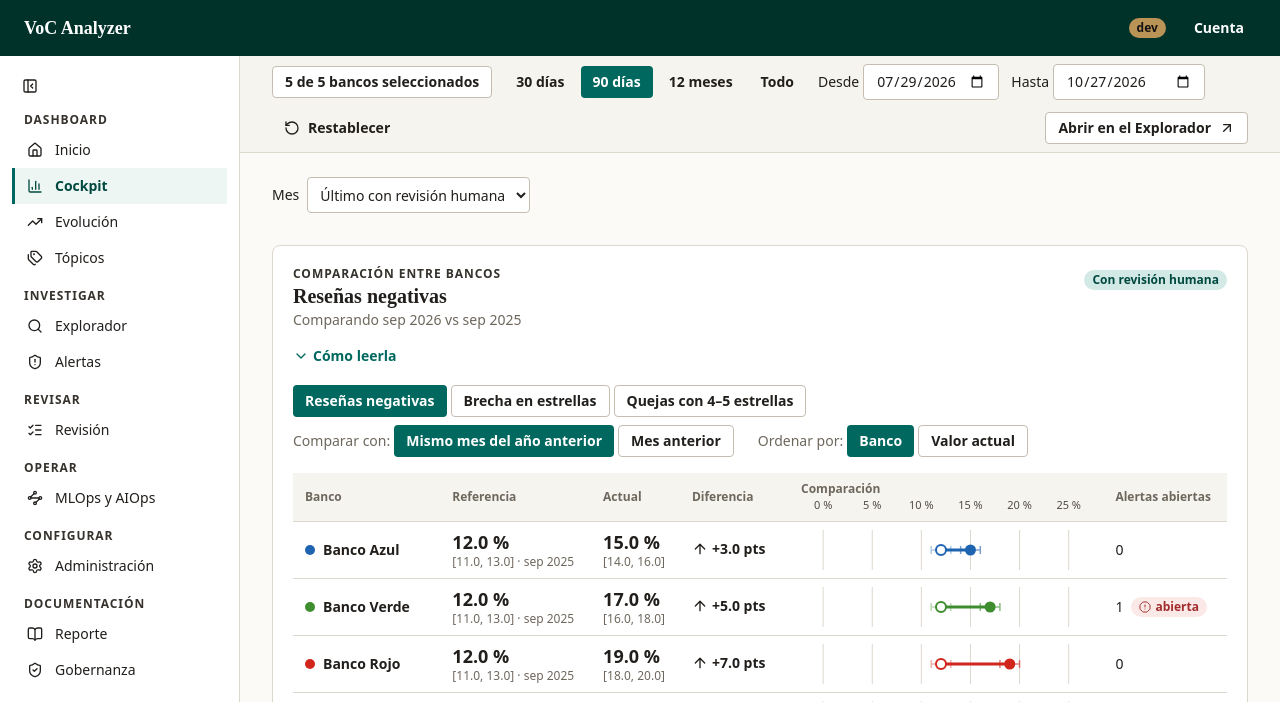
Test: cockpit, pestaña Diario › compara con el mes anterior si se pide
Expected: the row "Banco Azul" is shown, [293, 522, 1227, 578]
Click the button "Mes anterior". click: coordinates (676, 441)
box: [618, 425, 734, 457]
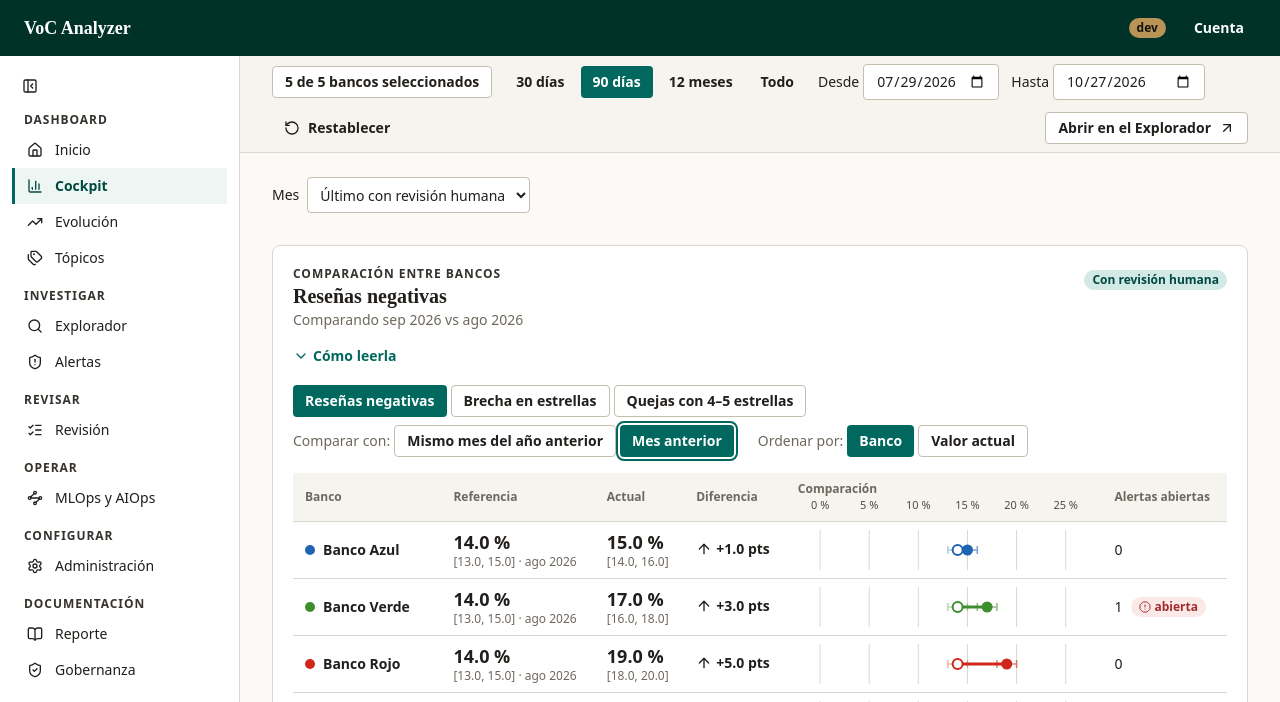
Result: the text "Comparando sep 2026 vs ago 2026" is shown at [293, 310, 523, 330]
Result: the text "14.0 %" next to "15.0 %" is shown at [453, 530, 510, 554]
